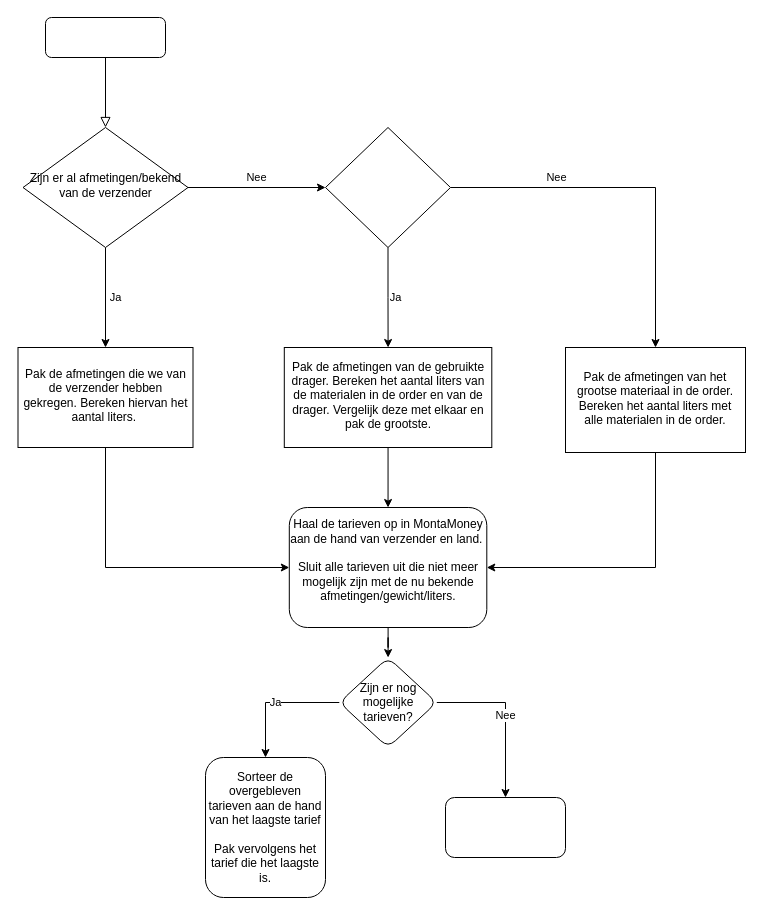
The diagram is 763 pixels wide and 915 high, and some of its shapes have lost their labels. The shapes that lost their labels are listed below. From the top down, each one's centre as x and y in pixels, then its label:
pixel 105 37: Factureren op volume gewicht
pixel 387 187: Heeft de gebruikte drager afmetingen?
pixel 505 827: Schrijf een error
